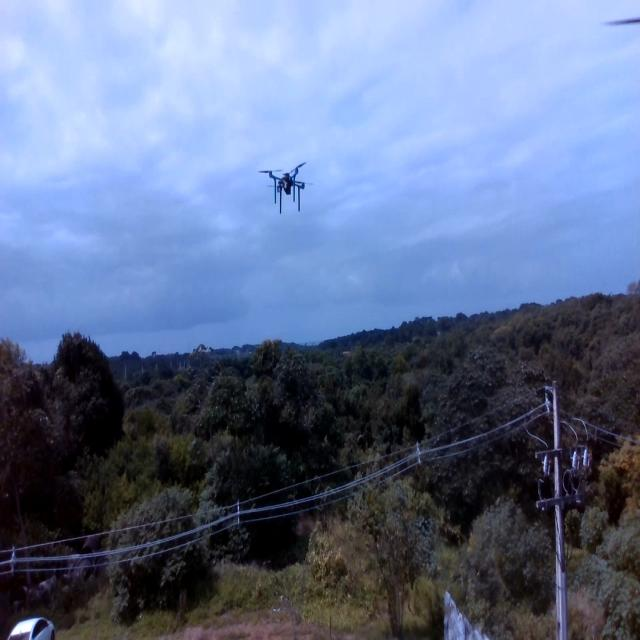-uav-: (252, 152, 317, 219)
